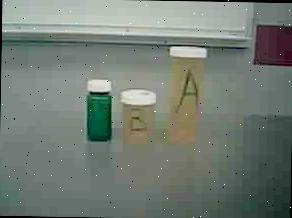Bottle A: (166, 42, 206, 148)
Bottle B: (119, 86, 160, 148)
Bottle C: (82, 77, 116, 145)
